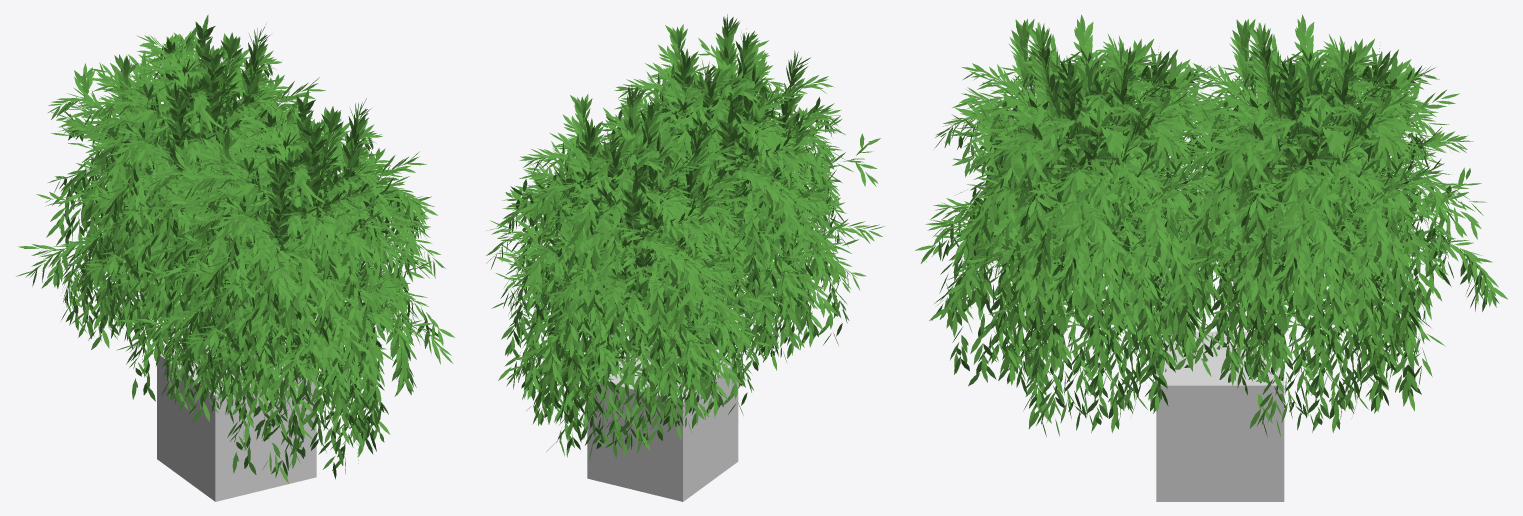
The model's file is Bamboo_export.glb.
3 renders of one model, left to right at view 1: azimuth 30°, elevation 25°; view 2: azimuth 150°, elevation 25°; view 3: azimuth 270°, elevation 25°, orthographic. The views are drawn at different scales.
Visible parts, largest first — view 1: leaves.001, leaves, Cube; view 2: leaves, leaves.001, Cube; view 3: leaves, leaves.001, Cube.
Part boxes in pixels (bbox=[...]): leaves.001: bbox=[116, 88, 454, 483]; leaves: bbox=[16, 14, 332, 409]; Cube: bbox=[157, 345, 316, 501]; leaves: bbox=[486, 84, 789, 460]; leaves.001: bbox=[601, 14, 884, 383]; Cube: bbox=[587, 345, 738, 501]; leaves: bbox=[1144, 14, 1507, 437]; leaves.001: bbox=[915, 14, 1284, 436]; Cube: bbox=[1156, 331, 1284, 501].
Bounding box in the file's own units: 5.7 × 7.89 × 9.27.
